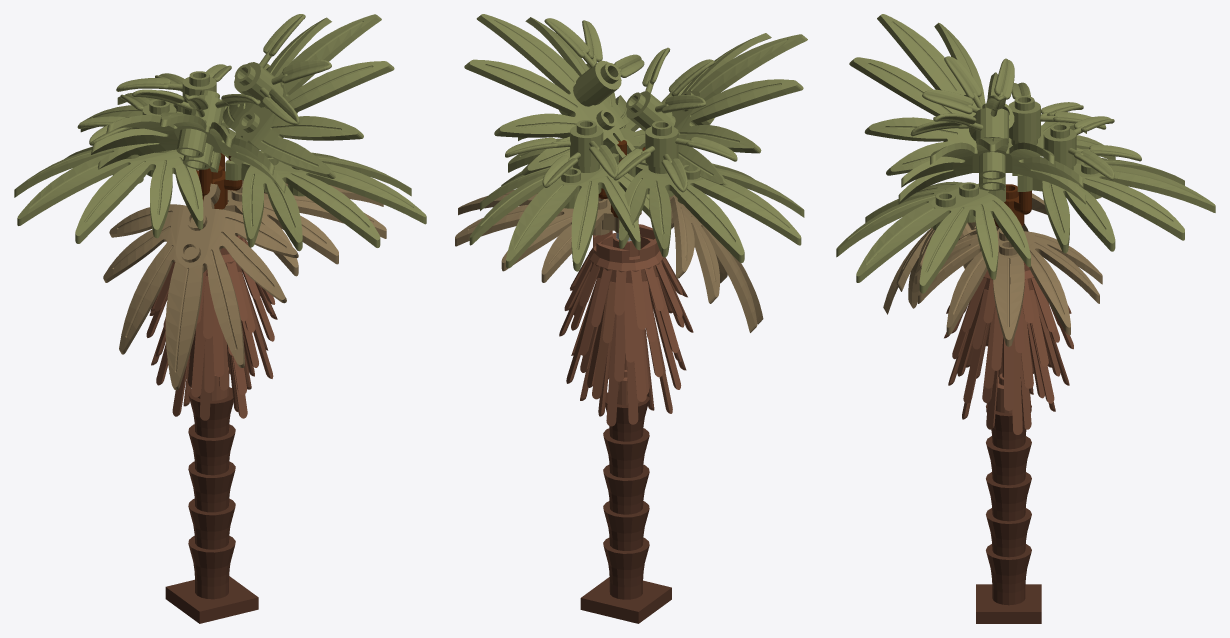
File: palmTreeAnimation.fbx
The picture shows the model from 3 angles, left to right: view 1: azimuth 30°, elevation 25°; view 2: azimuth 150°, elevation 25°; view 3: azimuth 270°, elevation 25°; orthographic projection. The views are drawn at different scales.
Parts seen in each view (by area): view 1: Boom01, Boom01.001; view 2: Boom01, Boom01.001; view 3: Boom01, Boom01.001.
Boxes of the visible parts, <box> form: Boom01: <box>14,14,426,623</box>; Boom01.001: <box>222,180,386,276</box>; Boom01: <box>464,14,807,623</box>; Boom01.001: <box>455,190,638,282</box>; Boom01: <box>836,14,1215,623</box>; Boom01.001: <box>915,226,1102,346</box>.
Bounding box in the file's own units: 482 × 739 × 459.
